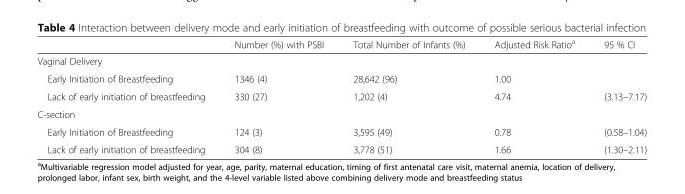table: (36, 36, 646, 154)
table column: (36, 36, 219, 154), (337, 36, 479, 154), (219, 36, 337, 154), (479, 36, 588, 154), (588, 36, 646, 154)
table column header: (36, 36, 646, 52)
table projected row header: (36, 104, 646, 122), (36, 52, 646, 69)
table row: (36, 69, 646, 87), (36, 104, 646, 122), (36, 122, 646, 140), (36, 52, 646, 69), (36, 87, 646, 104), (36, 36, 646, 52), (36, 140, 646, 154)
